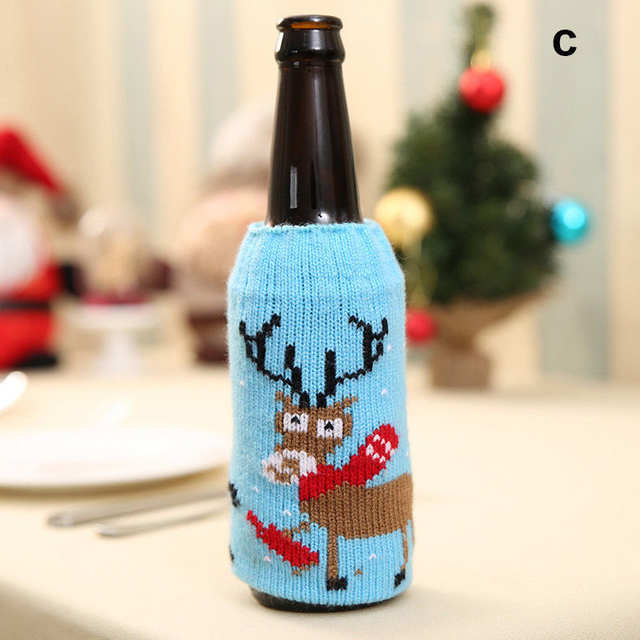bottle: (222, 13, 417, 610)
